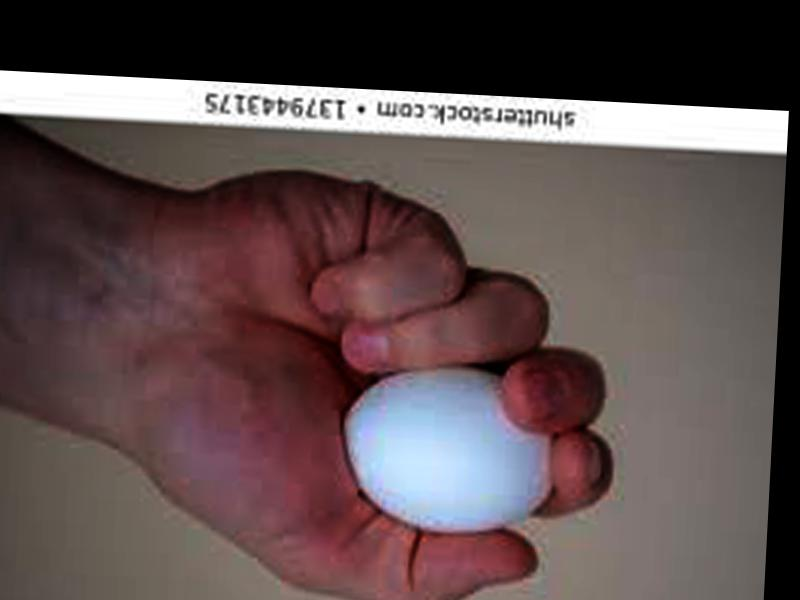Eggs: (334, 362, 557, 537)
